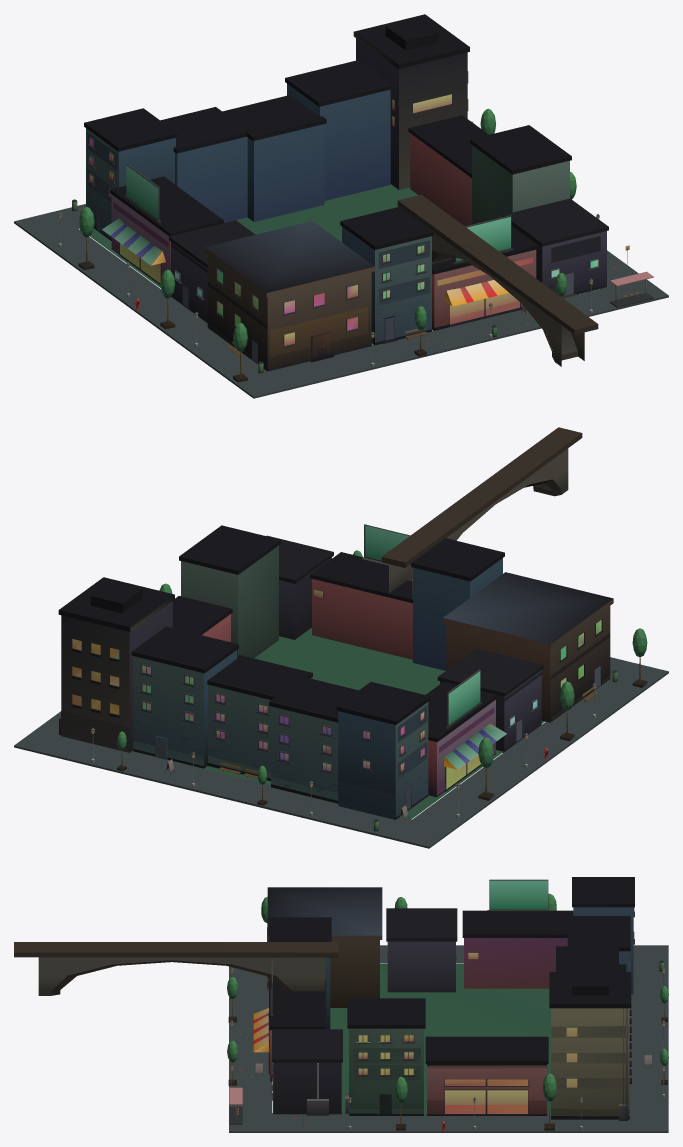
File: building-block-small.fbx
3 views of the same model, one above another, from view 1: azimuth 30°, elevation 25°; view 2: azimuth 150°, elevation 25°; view 3: azimuth 270°, elevation 25° (orthographic). The views are drawn at different scales.
Visible parts, largest first — view 1: building-block-small.003; view 2: building-block-small.003; view 3: building-block-small.003.
Boxes of the visible parts, left/top/right/bottom form: building-block-small.003: left=14, top=14, right=668, bottom=398; building-block-small.003: left=14, top=427, right=668, bottom=848; building-block-small.003: left=14, top=877, right=668, bottom=1132.
Size of the model in its own units: 41.01 by 14.24 by 60.85.
